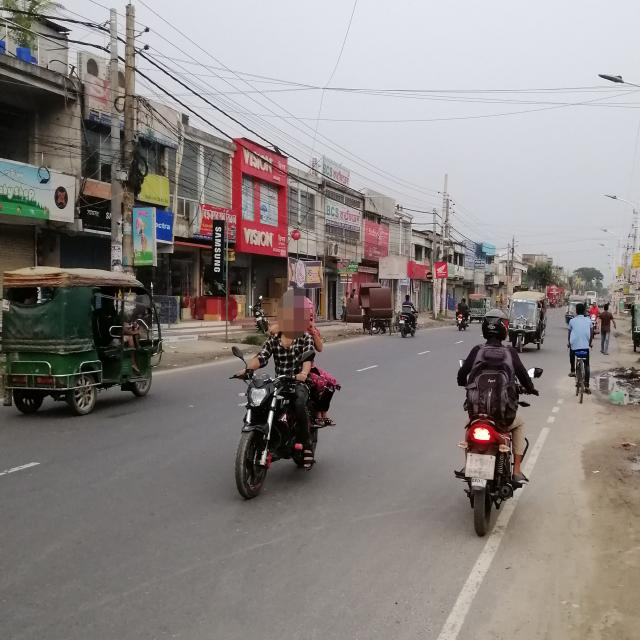Motorbike: (204, 364, 358, 502), (428, 368, 552, 538)
